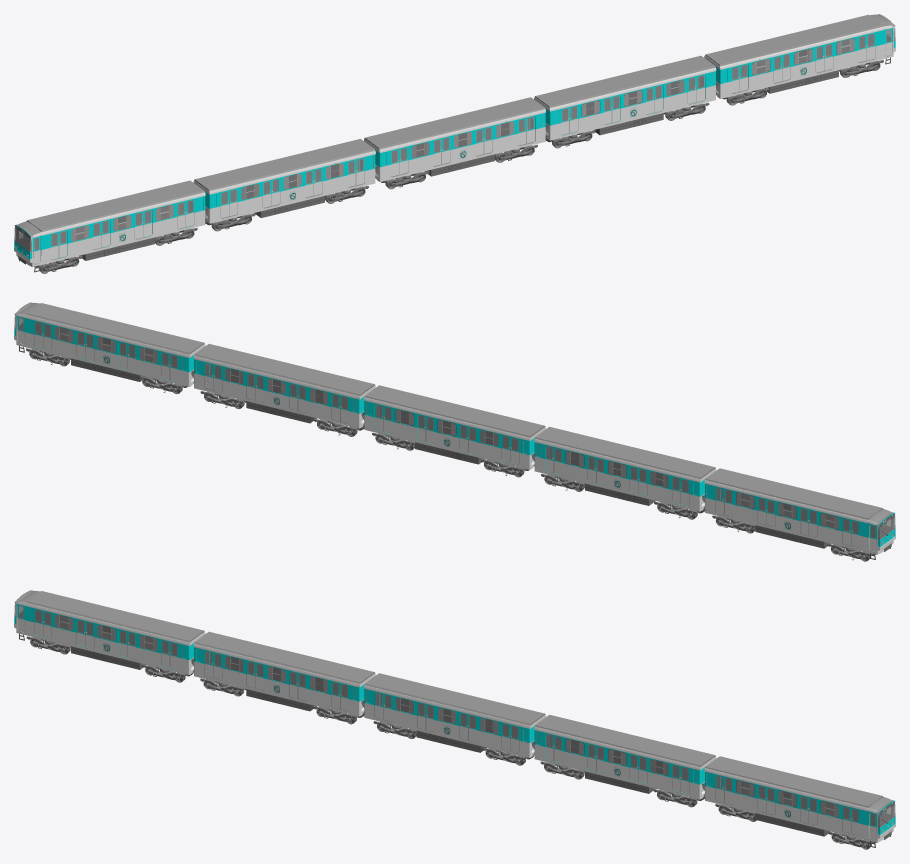
The picture shows the model from 3 angles, top to bottom: view 1: azimuth 30°, elevation 25°; view 2: azimuth 150°, elevation 25°; view 3: azimuth 330°, elevation 25°; orthographic projection.
Visible parts, largest first — view 1: object 190, Groupe#33 (×6), Groupe#2 (×3), Composant#3 (×2); view 2: object 190, Groupe#33 (×6), Groupe#2 (×3), Composant#3 (×2); view 3: object 190, Groupe#33 (×6), Groupe#2 (×3), Composant#3 (×2).
Part boxes in pixels (x1,y1,x2,y2): object 190: (17,14,892,238); Groupe#33 (×6): (209,71,715,223); Groupe#2 (×3): (15,26,895,272); Composant#3 (×2): (14,14,894,266); object 190: (17,302,892,560); Groupe#33 (×6): (194,359,700,511); Groupe#2 (×3): (14,315,894,559); Composant#3 (×2): (14,302,895,554); object 190: (17,590,892,813); Groupe#33 (×6): (194,647,700,799); Groupe#2 (×3): (14,602,894,847); Composant#3 (×2): (14,590,895,842).
Bounding box in the file's own units: 75.18 × 3.83 × 4.05.
Materials: 37 (2 with a texture image).
